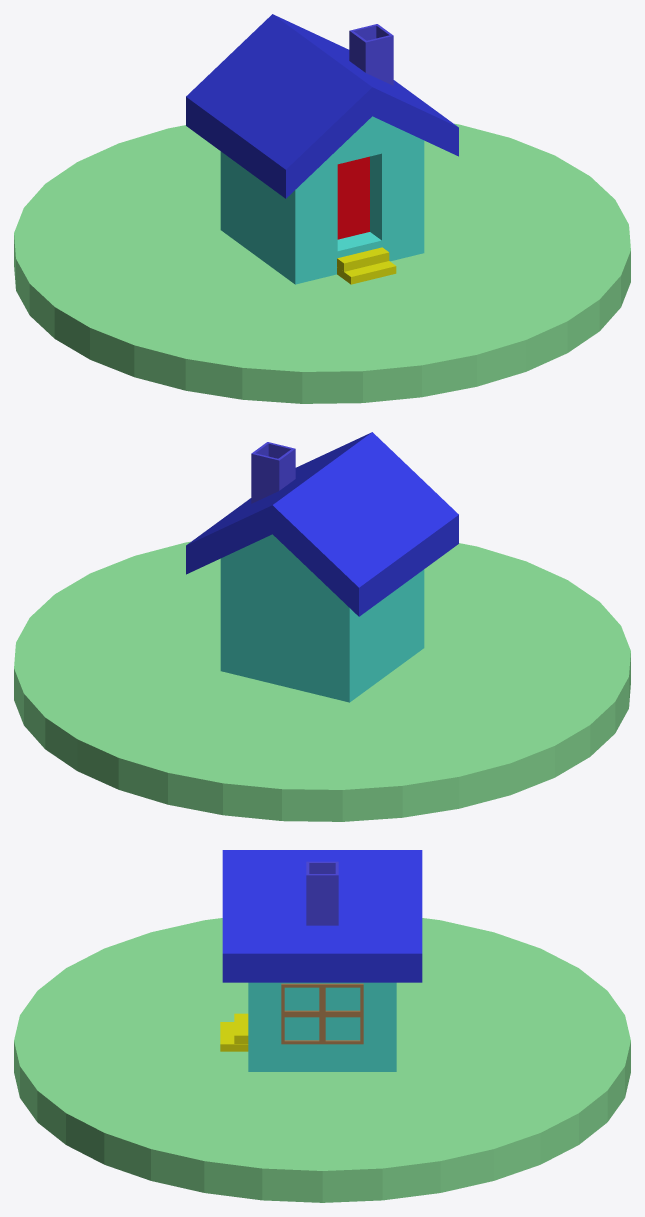
Rendered from house.glb.
The picture shows the model from 3 angles, top to bottom: view 1: azimuth 30°, elevation 25°; view 2: azimuth 150°, elevation 25°; view 3: azimuth 270°, elevation 25°; orthographic projection.
Parts seen in each view (by area): view 1: 円, Cube.001, Cube, 立方体, 立方体.002, 立方体.001; view 2: 円, Cube.001, Cube, 立方体; view 3: 円, Cube.001, Cube, Cube.002, 立方体, 立方体.002.
Boxes of the visible parts, left/top/right/bottom form: 円: left=14, top=123, right=630, bottom=403; Cube.001: left=186, top=14, right=458, bottom=198; Cube: left=220, top=116, right=424, bottom=284; 立方体: left=349, top=24, right=393, bottom=85; 立方体.002: left=337, top=261, right=396, bottom=284; 立方体.001: left=337, top=247, right=389, bottom=271; 円: left=14, top=541, right=630, bottom=821; Cube.001: left=186, top=432, right=458, bottom=616; Cube: left=220, top=534, right=424, bottom=702; 立方体: left=251, top=442, right=295, bottom=503; 円: left=14, top=918, right=630, bottom=1202; Cube.001: left=222, top=850, right=422, bottom=982; Cube: left=248, top=982, right=396, bottom=1071; Cube.002: left=281, top=983, right=363, bottom=1044; 立方体: left=306, top=861, right=338, bottom=925; 立方体.002: left=220, top=1022, right=248, bottom=1051.
Bounding box in the file's own units: 8.3 × 3.38 × 8.3.
